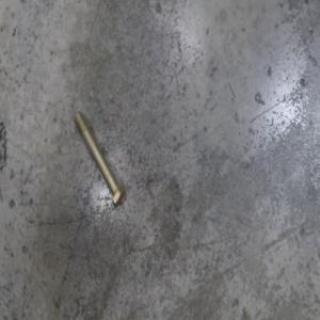Bolttrack_idkeyframe: (72, 108, 125, 207)
